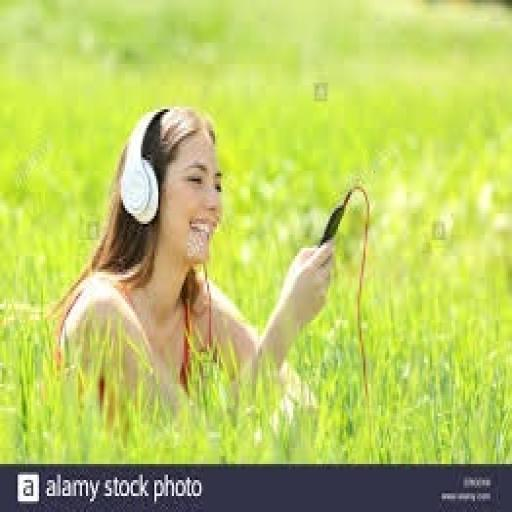listening_to_music: (47, 101, 338, 432)
